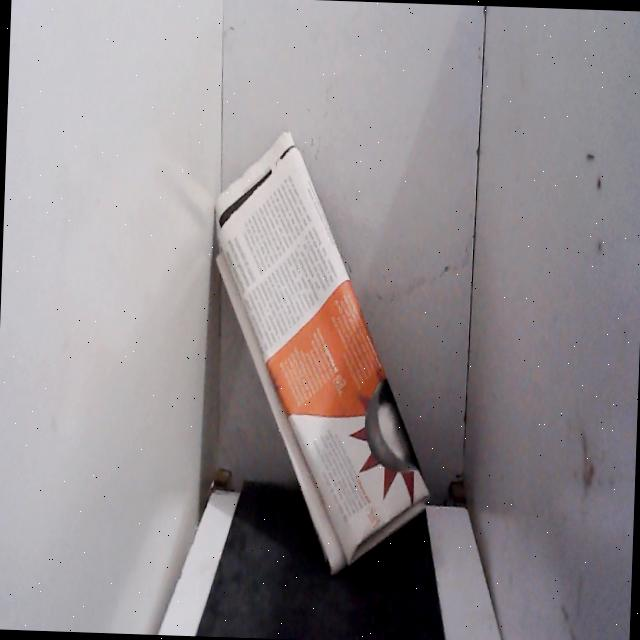papel: (200, 116, 449, 588)
